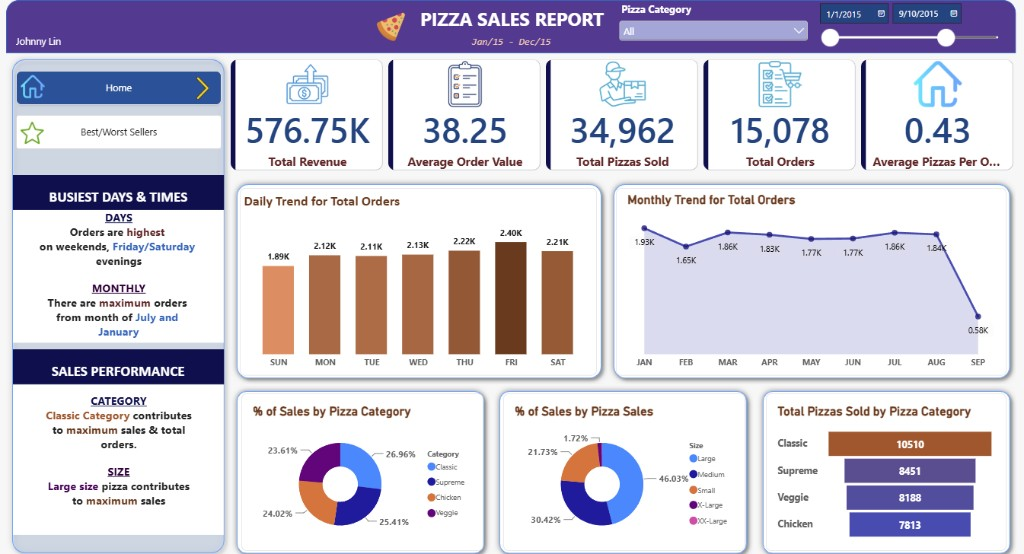

Layout of this report page (visuals, bound fields, positions):
{"tool":"powerbi","page":{"name":"Home","canvas":[1500,820],"ordinal":0},"visuals":[{"type":"shape","box":[12.5,81.2,327.5,738.8],"z":0},{"type":"cardVisual","fields":{"Data":["pizza_sales.Total Revenue","pizza_sales.Average Order Value","pizza_sales.Total Pizzas Sold","pizza_sales.Total Orders","pizza_sales.Average Pizzas Per Order"]},"box":[340,90,1146.2,162.5],"z":1000},{"type":"shape","box":[12.5,3.8,1473.8,77.5],"z":2000},{"type":"textbox","box":[165,12.5,1170,41.2],"z":3000},{"type":"textbox","box":[110,53.8,1278.8,176.2],"z":4000},{"type":"image","box":[353.8,21.2,441.2,42.5],"z":5000},{"type":"shape","box":[340,263.8,550,301.2],"z":6000},{"type":"columnChart","title":"Daily Trend for Total Orders","fields":{"Category":["pizza_sales.Order Day"],"Y":["pizza_sales.Total Orders"]},"box":[353.8,277.5,521.2,273.8],"z":7000},{"type":"shape","box":[890,263.8,596.2,301.2],"z":8000},{"type":"areaChart","title":"Monthly Trend for Total Orders","fields":{"Category":["pizza_sales.Order Month"],"Y":["pizza_sales.Total Orders"]},"box":[902.5,277.5,570,273.8],"z":9000},{"type":"shape","box":[340,565,378.8,255],"z":10000},{"type":"shape","box":[723.8,565,378.8,255],"z":11000},{"type":"shape","box":[1107.5,565,378.8,255],"z":12000},{"type":"donutChart","title":"% of Sales by Pizza Category","fields":{"Category":["pizza_sales.pizza_category"],"Y":["pizza_sales.Total Revenue"]},"box":[355,577.5,352.5,230],"z":13000},{"type":"donutChart","title":"% of Sales by Pizza Sales","fields":{"Category":["pizza_sales.pizza_size"],"Y":["pizza_sales.Total Revenue"]},"box":[737.5,577.5,352.5,230],"z":14000},{"type":"funnel","title":"Total Pizzas Sold by Pizza Category","fields":{"Category":["pizza_sales.pizza_category"],"Y":["pizza_sales.Total Pizzas Sold"]},"box":[1121.2,577.5,351.2,230],"z":15000},{"type":"shape","box":[22.5,310,307.5,193.8],"z":16000},{"type":"textbox","box":[22.5,258.8,307.5,51.2],"z":17000},{"type":"textbox","box":[26.2,310,300,193.8],"z":18000},{"type":"shape","box":[22.5,565,307.5,218.8],"z":19000},{"type":"textbox","box":[22.5,513.8,307.5,51.2],"z":20000},{"type":"textbox","box":[26.2,577.5,300,193.8],"z":21000},{"type":"slicer","fields":{"Values":["pizza_sales.pizza_category"]},"box":[902.5,6.2,285,58.8],"z":22000},{"type":"slicer","fields":{"Values":["pizza_sales.cleaned_date"]},"box":[1192.5,3.8,283.8,77.5],"z":23000},{"type":"pageNavigator","box":[26.2,106.2,300,50],"z":24000},{"type":"pageNavigator","box":[26.2,171.2,300,50],"z":25000},{"type":"image","box":[272.5,115,53.8,32.5],"z":26000},{"type":"image","box":[26.2,112.5,48.8,35],"z":27000},{"type":"image","box":[33.8,173.8,33.8,47.5],"z":28000},{"type":"textbox","box":[26.2,53.8,300,300],"z":28001}]}

Visuals, with their boxes in screenshot pixels (x1, y1, x2, y2), scaled from the page's 1500x820 canvas onto the 1024x554 screenshot:
shape: locate(9, 55, 232, 553)
cardVisual - pizza_sales.Total Revenue x pizza_sales.Average Order Value: locate(232, 61, 1015, 171)
shape: locate(9, 3, 1015, 55)
textbox: locate(113, 8, 911, 36)
textbox: locate(75, 36, 948, 155)
image: locate(242, 14, 543, 43)
shape: locate(232, 178, 608, 382)
"Daily Trend for Total Orders" columnChart: locate(242, 187, 597, 372)
shape: locate(608, 178, 1015, 382)
"Monthly Trend for Total Orders" areaChart: locate(616, 187, 1005, 372)
shape: locate(232, 382, 491, 553)
shape: locate(494, 382, 753, 553)
shape: locate(756, 382, 1015, 553)
"% of Sales by Pizza Category" donutChart: locate(242, 390, 483, 546)
"% of Sales by Pizza Sales" donutChart: locate(503, 390, 744, 546)
"Total Pizzas Sold by Pizza Category" funnel: locate(765, 390, 1005, 546)
shape: locate(15, 209, 225, 340)
textbox: locate(15, 175, 225, 209)
textbox: locate(18, 209, 223, 340)
shape: locate(15, 382, 225, 530)
textbox: locate(15, 347, 225, 382)
textbox: locate(18, 390, 223, 521)
slicer - pizza_sales.pizza_category: locate(616, 4, 811, 44)
slicer - pizza_sales.cleaned_date: locate(814, 3, 1008, 55)
pageNavigator: locate(18, 72, 223, 106)
pageNavigator: locate(18, 116, 223, 149)
image: locate(186, 78, 223, 100)
image: locate(18, 76, 51, 100)
image: locate(23, 117, 46, 150)
textbox: locate(18, 36, 223, 239)
